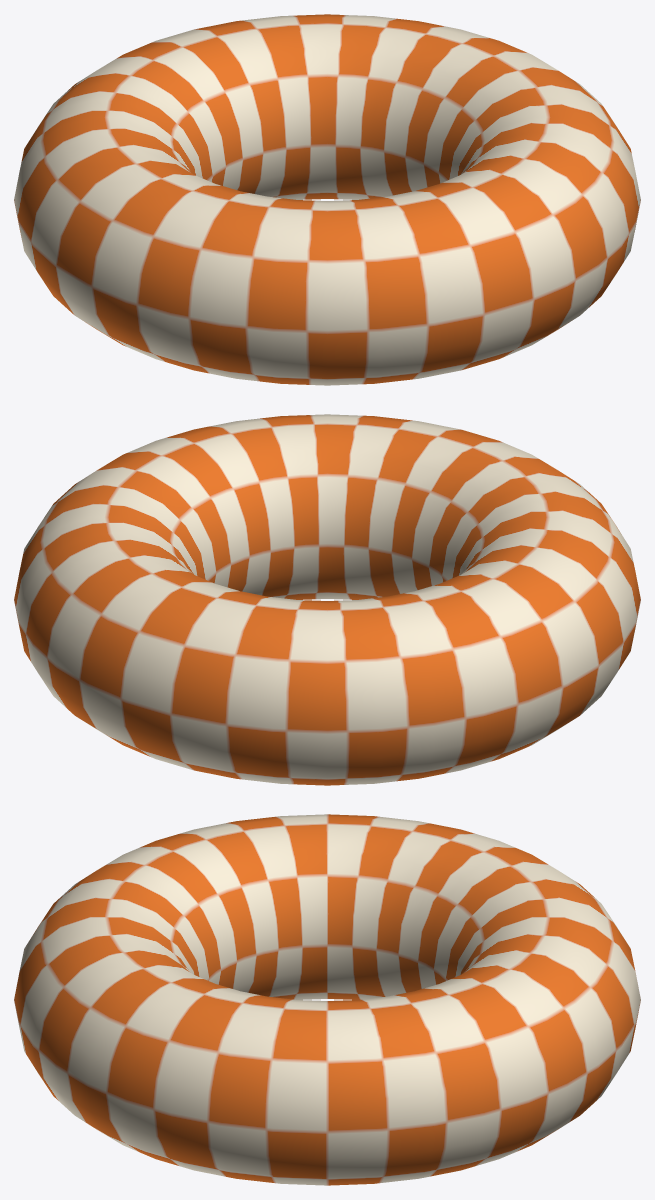
3 views of the same model, one above another, from view 1: azimuth 30°, elevation 25°; view 2: azimuth 150°, elevation 25°; view 3: azimuth 270°, elevation 25° (orthographic).
Parts seen in each view (by area): view 1: torus; view 2: torus; view 3: torus.
Part boxes in pixels (left/top/right/bottom): torus: left=14, top=14, right=640, bottom=385; torus: left=14, top=414, right=640, bottom=785; torus: left=14, top=814, right=640, bottom=1185.
Size of the model in its own units: 1.76 by 0.5121 by 1.76.
1 material, 1 textured.
